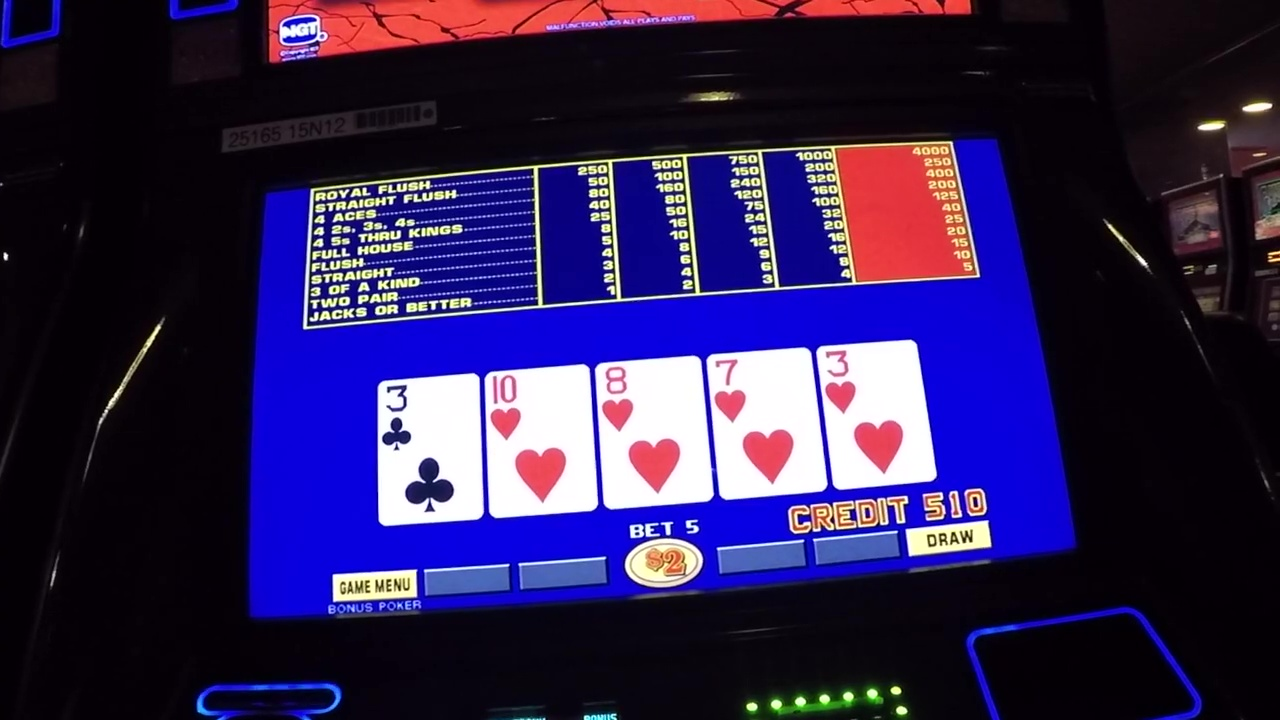C3: (378, 380, 477, 453)
H3: (823, 346, 918, 421)
H7: (714, 354, 809, 430)
H8: (600, 363, 701, 435)
HT: (489, 373, 590, 444)
